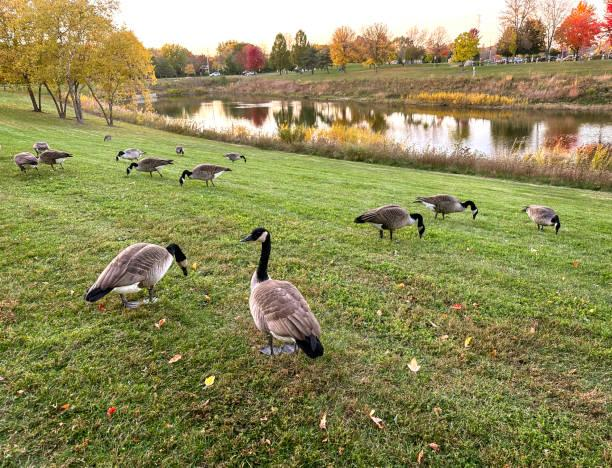Canadian-Goose: (241, 227, 324, 361), (74, 228, 190, 308), (352, 203, 427, 243), (177, 162, 232, 194), (418, 190, 479, 218), (518, 200, 562, 234), (120, 154, 170, 178), (14, 149, 40, 176), (42, 148, 69, 168), (117, 147, 143, 163), (223, 149, 248, 163), (33, 140, 49, 151), (174, 145, 184, 153)
